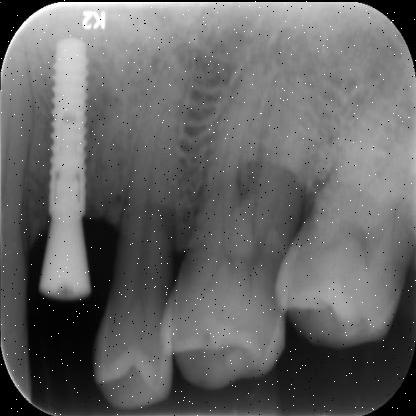ITI: (44, 31, 96, 221)
